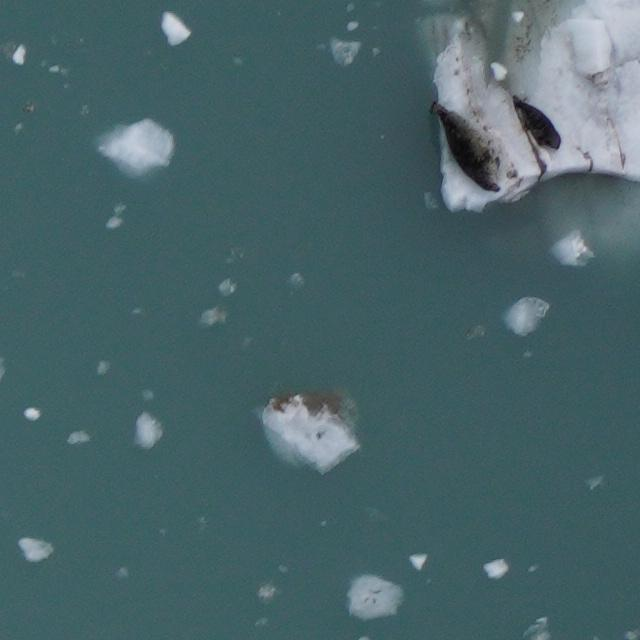seal: (427, 97, 507, 198), (509, 90, 566, 156)
